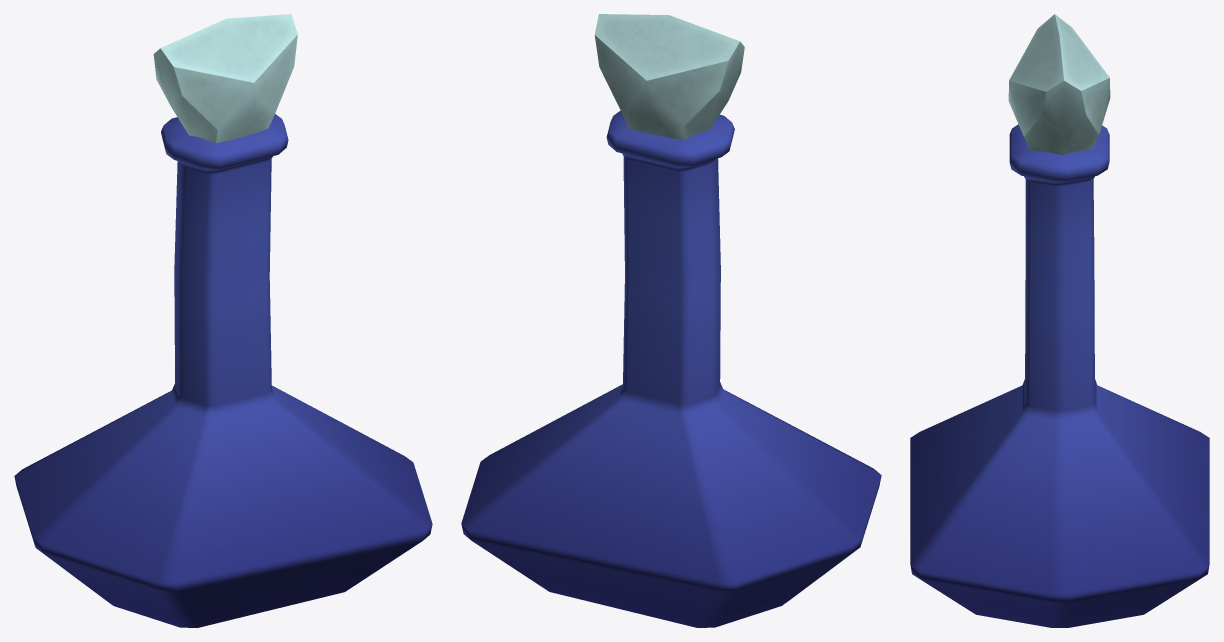
File: SM_Potion_Props_Bottle_Small_02_A.fbx
3 renders of one model, left to right at view 1: azimuth 30°, elevation 25°; view 2: azimuth 150°, elevation 25°; view 3: azimuth 270°, elevation 25°, orthographic. The views are drawn at different scales.
Visible parts, largest first — view 1: SM_Potion_Props_Bottle_Small_02_A_LOD0; view 2: SM_Potion_Props_Bottle_Small_02_A_LOD0; view 3: SM_Potion_Props_Bottle_Small_02_A_LOD0.
Boxes of the visible parts, bbox=[...] form: SM_Potion_Props_Bottle_Small_02_A_LOD0: bbox=[14, 14, 432, 627]; SM_Potion_Props_Bottle_Small_02_A_LOD0: bbox=[461, 14, 881, 627]; SM_Potion_Props_Bottle_Small_02_A_LOD0: bbox=[910, 14, 1209, 627].
Size of what is drawn, in the model's own units: 13.81 by 20.02 by 9.93.
